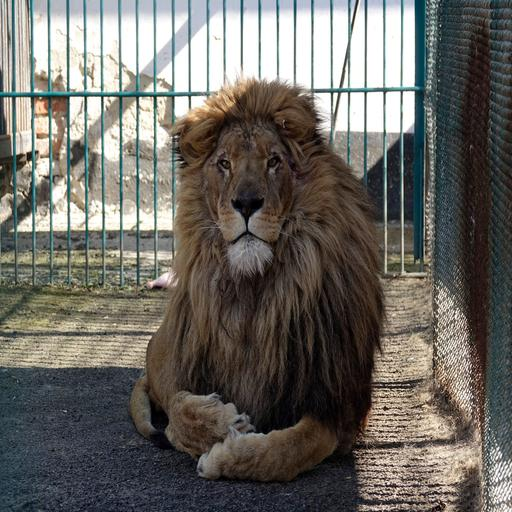Lion: (129, 73, 396, 503)
